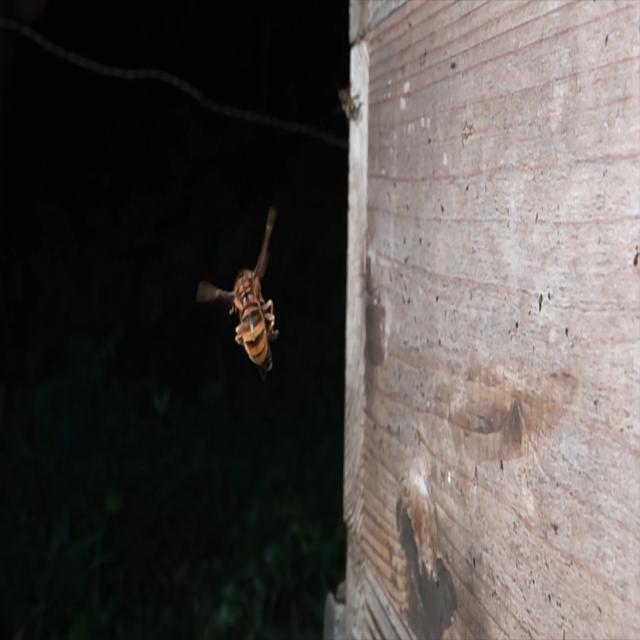Hornets: (201, 210, 282, 370)
